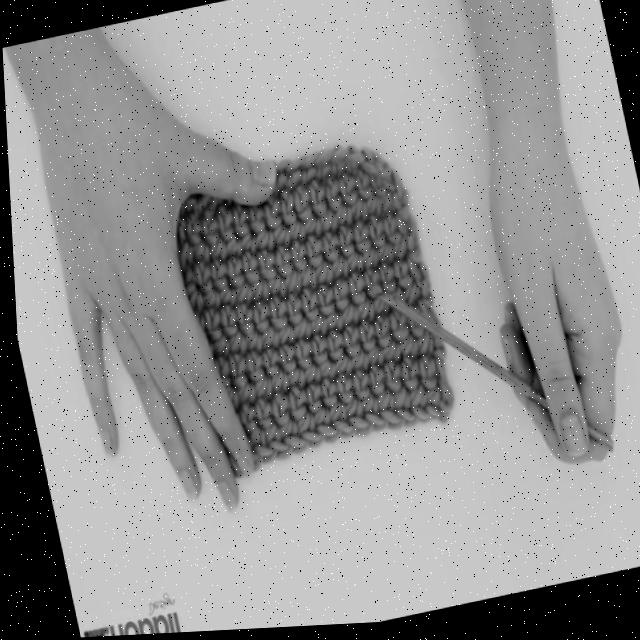ch: (378, 174, 399, 198), (358, 152, 376, 177), (372, 160, 390, 183), (346, 147, 362, 166), (312, 153, 332, 168), (296, 157, 317, 171), (283, 160, 301, 173), (330, 151, 346, 165), (275, 162, 289, 171)
sc: (308, 408, 336, 448), (388, 388, 413, 431), (291, 413, 319, 451), (373, 394, 399, 434), (276, 421, 304, 456), (258, 427, 286, 462), (359, 398, 384, 436), (343, 401, 368, 439), (324, 405, 350, 441), (404, 388, 426, 427), (205, 262, 225, 302), (364, 222, 383, 263), (191, 264, 209, 307), (247, 431, 269, 466), (394, 334, 413, 373), (253, 252, 271, 292), (335, 304, 356, 338), (349, 229, 369, 264), (412, 358, 432, 393), (379, 220, 398, 256), (264, 397, 285, 429), (270, 249, 288, 286), (289, 190, 308, 225), (224, 259, 241, 298), (301, 242, 319, 278), (198, 309, 217, 343), (223, 356, 242, 390), (304, 188, 324, 220), (247, 376, 267, 408), (210, 211, 231, 241), (388, 262, 409, 292), (305, 317, 326, 347), (351, 300, 370, 333), (342, 276, 362, 307), (377, 343, 397, 374), (281, 392, 301, 423), (358, 272, 378, 303), (313, 361, 332, 393), (320, 235, 336, 272), (297, 292, 316, 323), (232, 384, 251, 415), (378, 366, 397, 397), (317, 210, 335, 242), (223, 331, 241, 363), (336, 231, 351, 269), (231, 307, 250, 337), (345, 353, 364, 383), (395, 364, 414, 394), (288, 318, 305, 351), (349, 198, 365, 233), (287, 245, 303, 280), (330, 257, 346, 292), (313, 262, 329, 297), (272, 346, 292, 374), (297, 364, 315, 395), (336, 179, 355, 208), (265, 301, 284, 330), (385, 316, 404, 345), (240, 255, 254, 294), (323, 181, 340, 213), (266, 275, 282, 309), (208, 336, 225, 368), (205, 239, 223, 269), (312, 289, 330, 319), (413, 333, 428, 369), (330, 357, 348, 387), (420, 387, 435, 423), (176, 244, 189, 285), (314, 384, 333, 412), (301, 217, 318, 248), (270, 224, 287, 255), (297, 267, 312, 302), (295, 167, 313, 196), (215, 309, 233, 338), (247, 305, 265, 334), (321, 334, 339, 363), (338, 330, 356, 359), (353, 327, 372, 354), (249, 281, 265, 313), (333, 207, 350, 237), (283, 273, 298, 307), (328, 284, 345, 314), (299, 386, 316, 416), (241, 355, 259, 383), (232, 407, 250, 435), (276, 197, 292, 228), (222, 235, 238, 266), (242, 331, 258, 362), (232, 284, 247, 317), (253, 231, 270, 260), (266, 375, 283, 404), (330, 379, 348, 406), (363, 198, 378, 230), (198, 217, 215, 245), (181, 218, 198, 246), (353, 176, 370, 204), (274, 325, 291, 353), (249, 401, 266, 429), (257, 352, 275, 378), (260, 329, 275, 360), (229, 209, 245, 238), (369, 298, 385, 327), (369, 320, 385, 349), (363, 348, 379, 377), (283, 370, 299, 399), (375, 267, 392, 294), (322, 313, 339, 340), (287, 223, 302, 253), (261, 202, 277, 230), (363, 371, 379, 399), (391, 240, 406, 269), (192, 240, 206, 271), (238, 234, 254, 261), (290, 343, 306, 370), (379, 193, 392, 226), (307, 340, 324, 365), (347, 376, 364, 401), (217, 289, 232, 317), (245, 209, 261, 235), (282, 299, 298, 325), (318, 164, 335, 188), (345, 255, 359, 284), (360, 251, 374, 278), (366, 179, 382, 201), (203, 291, 215, 318), (377, 249, 389, 275)
